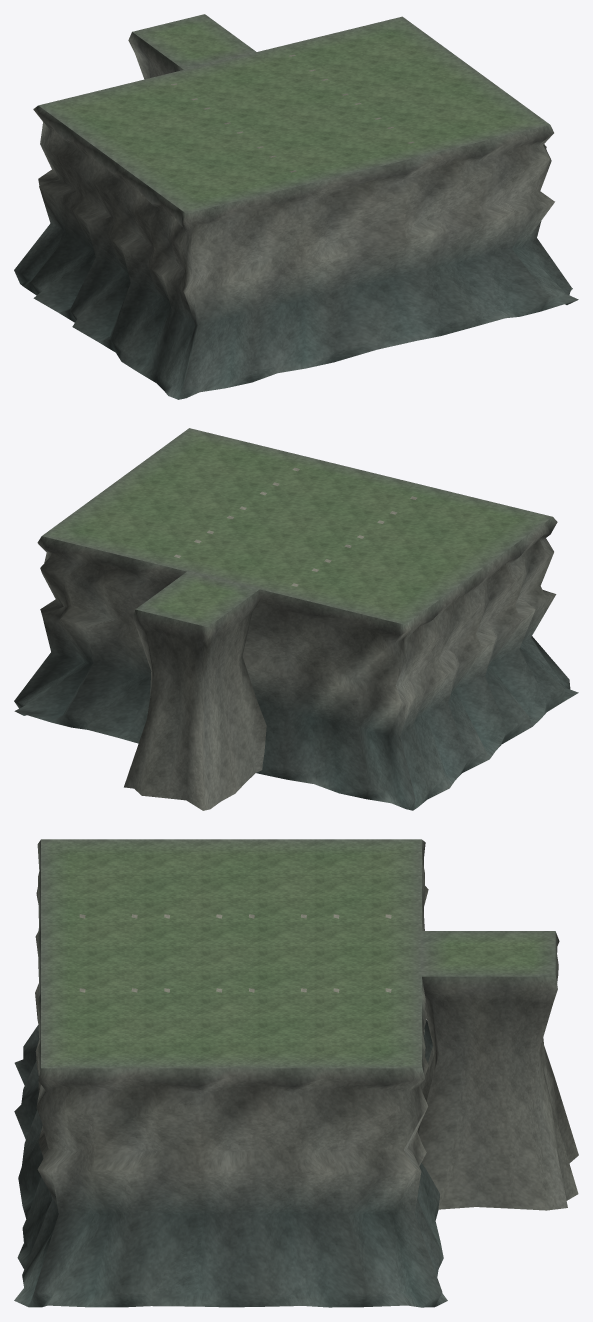
Rendered from parcel-terrace.glb.
3 views of the same model, one above another, from view 1: azimuth 30°, elevation 25°; view 2: azimuth 150°, elevation 25°; view 3: azimuth 270°, elevation 25° (orthographic). The views are drawn at different scales.
Visible parts, largest first — view 1: Parcel terrace; view 2: Parcel terrace; view 3: Parcel terrace.
Part boxes in pixels (x1,y1,x2,y2): Parcel terrace: (14,14,578,399); Parcel terrace: (14,428,578,810); Parcel terrace: (14,839,578,1307).
Size of the model in its own units: 18.26 by 7.66 by 16.69.
1 material, 1 textured.
